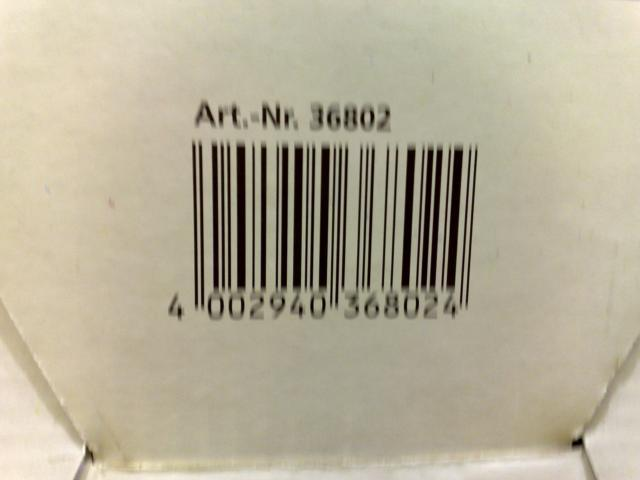Barcode: (162, 139, 484, 331)
